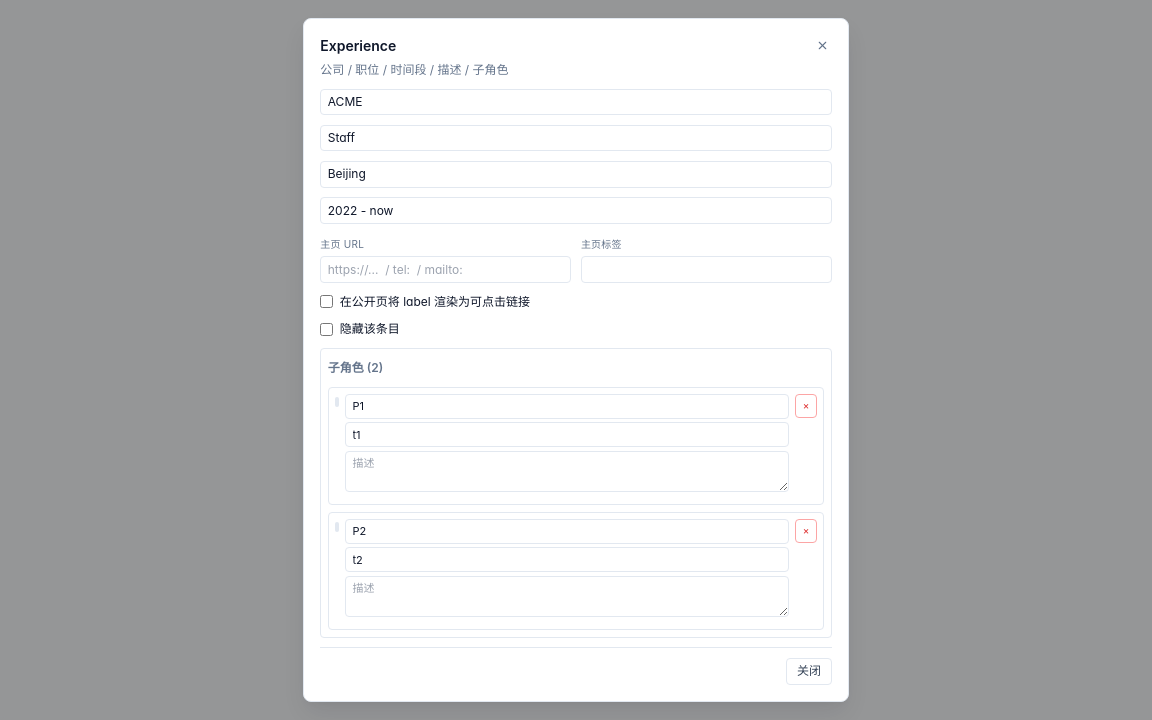
ExperienceDialog (AC-03, AC-04, AC-05, AC-06, AC-07, AC-14) › remove role splices by id and restores top-level description (AC-07)
The width and height of the screenshot is (1152, 720).
Click the 1st button with test id "experience-role-remove" at (806, 406), box x1=795 y1=394 x2=817 y2=418
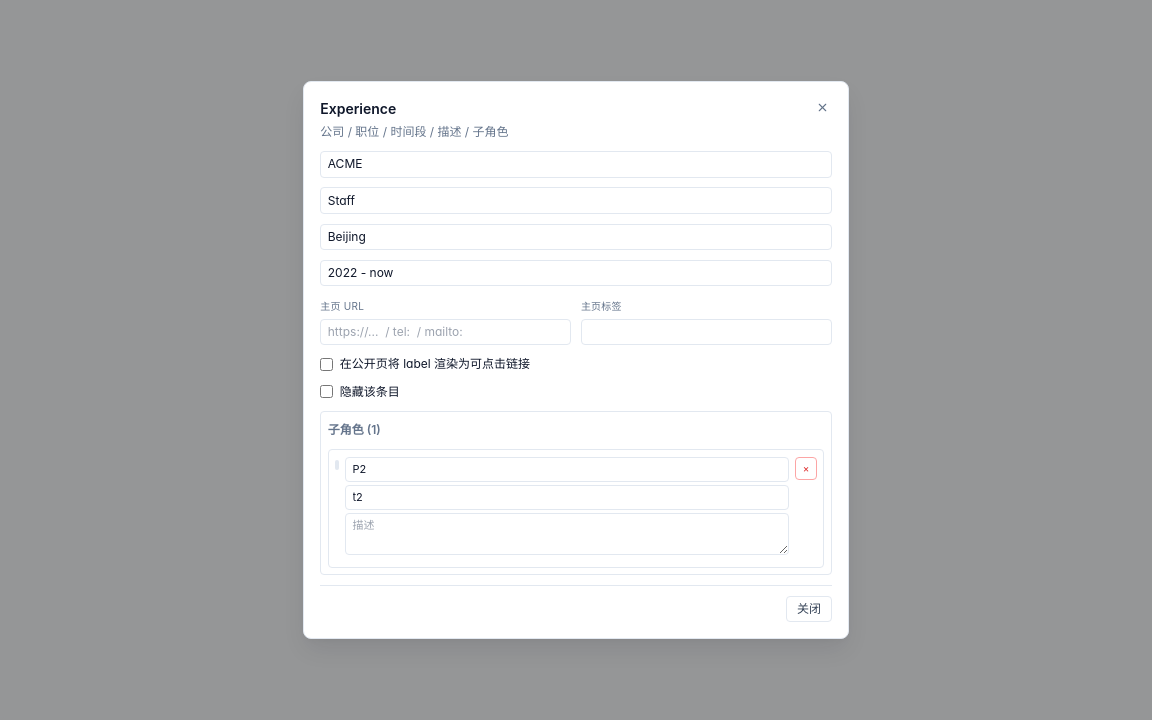
Click the button with test id "experience-role-remove" at (806, 468), box x1=795 y1=457 x2=817 y2=480
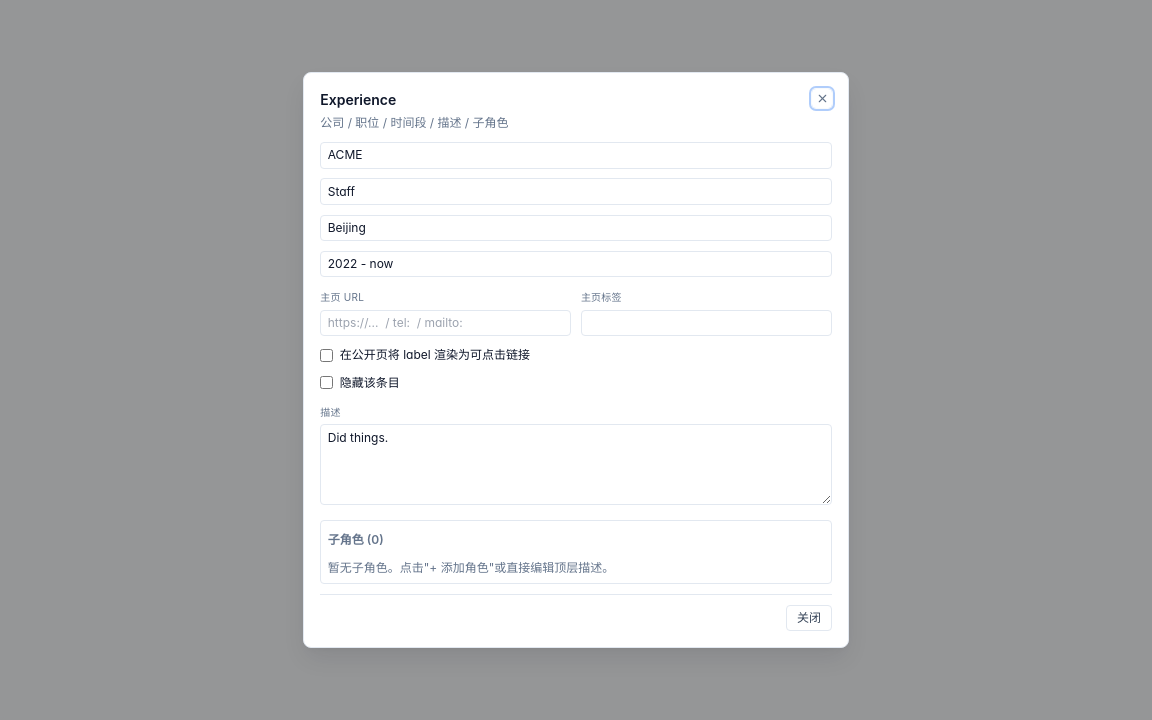
Result: the text box with test id "experience-description" is shown at x1=320 y1=424 x2=832 y2=505
